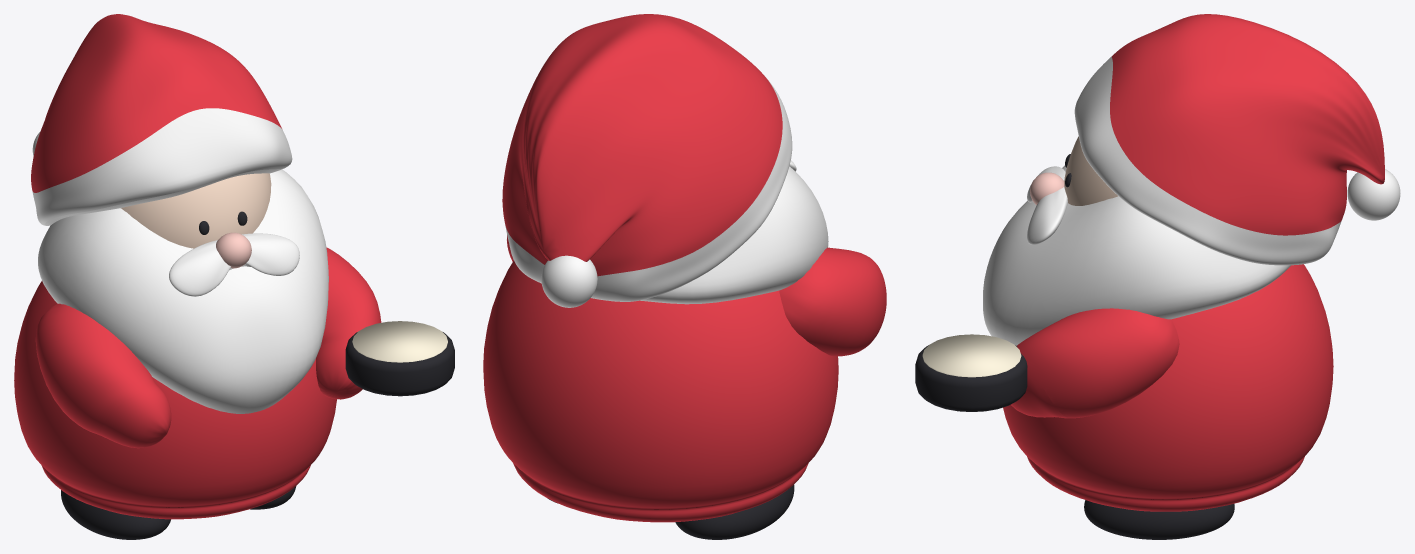
Rendered from gukbap.glb.
3 renders of one model, left to right at view 1: azimuth 30°, elevation 25°; view 2: azimuth 150°, elevation 25°; view 3: azimuth 270°, elevation 25°, orthographic. The views are drawn at different scales.
Visible parts, largest first — view 1: gukbap_red, gukbap_white, gukbap_black, gukbap_skin, gukbap_cream, gukbap_nose; view 2: gukbap_red, gukbap_white, gukbap_black; view 3: gukbap_red, gukbap_white, gukbap_black, gukbap_cream, gukbap_skin, gukbap_nose.
Part boxes in pixels (x1,y1,x2,y2): gukbap_red: (14, 14, 381, 519); gukbap_white: (32, 108, 328, 413); gukbap_black: (61, 211, 454, 539); gukbap_skin: (121, 173, 271, 248); gukbap_cream: (352, 321, 447, 362); gukbap_nose: (216, 232, 251, 268); gukbap_red: (483, 14, 886, 522); gukbap_white: (504, 78, 828, 307); gukbap_black: (547, 485, 794, 539); gukbap_red: (1003, 14, 1384, 511); gukbap_white: (983, 56, 1400, 345); gukbap_black: (915, 154, 1234, 539); gukbap_cream: (922, 334, 1021, 377); gukbap_skin: (1064, 136, 1117, 205); gukbap_nose: (1030, 172, 1064, 204).
Size of the model in its own units: 2.27 by 2.96 by 2.75.
